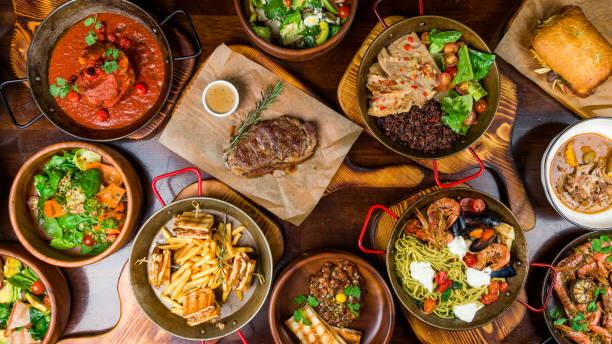Braised Crucian Carp: (158, 42, 355, 226), (16, 0, 185, 142), (385, 187, 528, 333), (356, 14, 497, 162), (129, 196, 272, 341), (7, 140, 140, 267), (266, 249, 390, 343), (542, 107, 612, 228), (236, 0, 353, 63)
